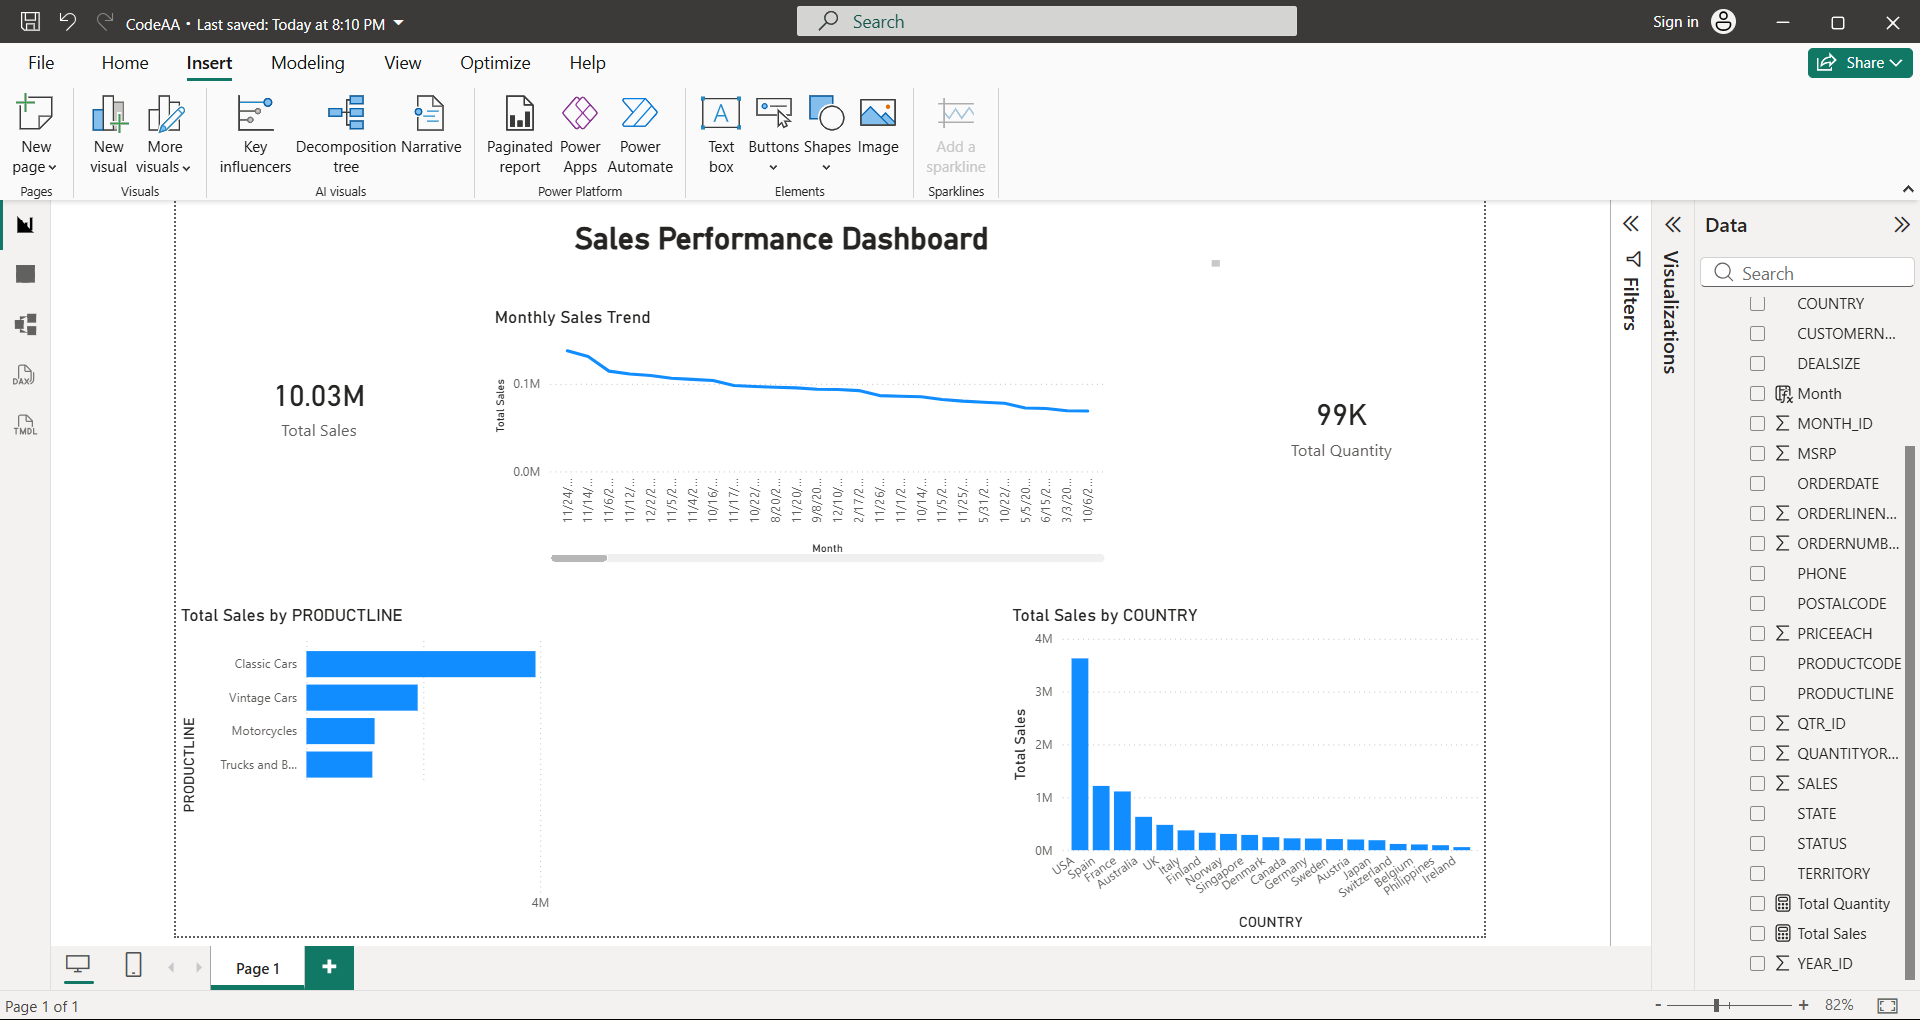

The page's visual inventory and layout, read from the dashboard file:
{"tool":"powerbi","page":{"name":"Page 1","canvas":[1280,720],"ordinal":0},"visuals":[{"type":"card","fields":{"Values":["sales_data_sample.Total Sales"]},"box":[0,61.1,280,278.8],"z":0},{"type":"card","fields":{"Values":["sales_data_sample.Total Quantity"]},"box":[1000.3,79.5,280,280],"z":1000},{"type":"clusteredBarChart","fields":{"Category":["sales_data_sample.PRODUCTLINE"],"Y":["sales_data_sample.Total Sales"]},"box":[0,396.6,370.5,323.8],"z":2000},{"type":"columnChart","fields":{"Category":["sales_data_sample.COUNTRY"],"Y":["sales_data_sample.Total Sales"]},"box":[813.7,396.6,466.6,323.8],"z":3000},{"type":"lineChart","title":"Monthly Sales Trend","fields":{"Category":["sales_data_sample.Month"],"Y":["sales_data_sample.Total Sales"]},"box":[306.9,103.9,606.5,255.6],"z":4000},{"type":"textbox","box":[18,570,280,150],"z":5000},{"type":"textbox","box":[370,397,444,323],"z":6000},{"type":"textbox","title":"Sales Performance Dashboard","box":[385.6,19.2,640.8,50.8],"z":7000}]}

Visuals, with their boxes on the page's 1280x720 design canvas (x1, y1, x2, y2). These are canvas units, not pixel positions in the 1920x1020 screenshot, which may show the page scaled, cropped or inside an application window:
card - sales_data_sample.Total Sales: (left=0, top=61, right=280, bottom=340)
card - sales_data_sample.Total Quantity: (left=1000, top=80, right=1280, bottom=360)
clusteredBarChart - sales_data_sample.PRODUCTLINE x sales_data_sample.Total Sales: (left=0, top=397, right=370, bottom=720)
columnChart - sales_data_sample.COUNTRY x sales_data_sample.Total Sales: (left=814, top=397, right=1280, bottom=720)
"Monthly Sales Trend" lineChart: (left=307, top=104, right=913, bottom=360)
textbox: (left=18, top=570, right=298, bottom=720)
textbox: (left=370, top=397, right=814, bottom=720)
"Sales Performance Dashboard" textbox: (left=386, top=19, right=1026, bottom=70)
